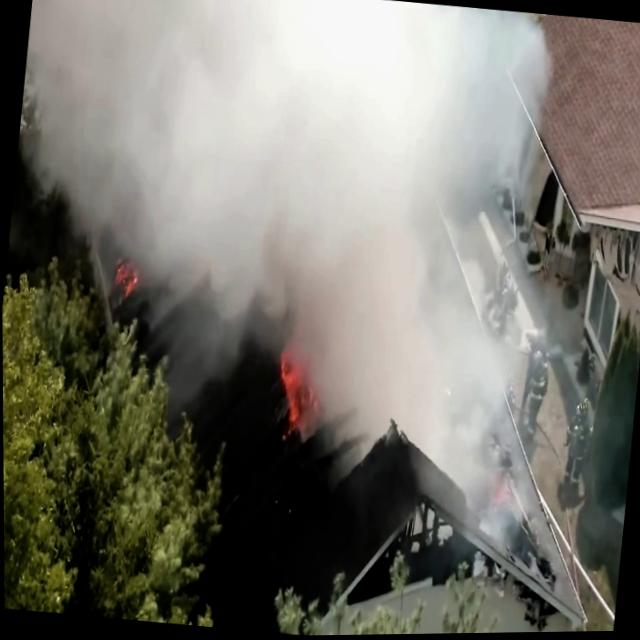smoke: (63, 0, 487, 220)
